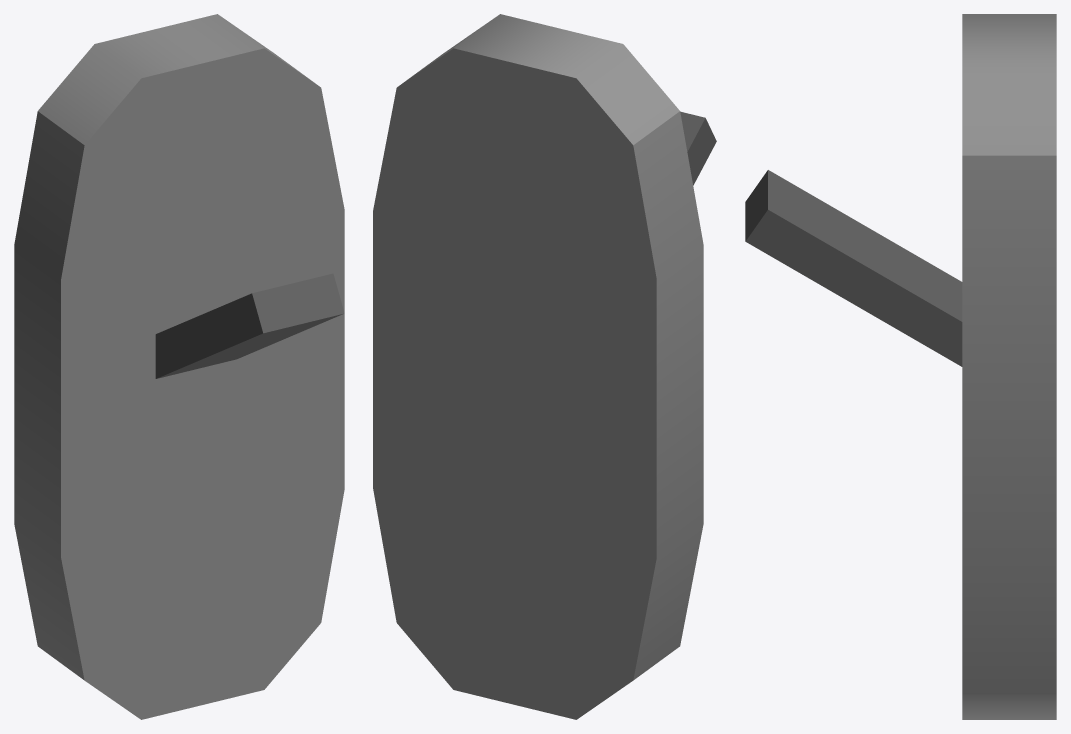
Rendered from Interruptor.fbx.
3 views of the same model, side by side, from view 1: azimuth 30°, elevation 25°; view 2: azimuth 150°, elevation 25°; view 3: azimuth 270°, elevation 25° (orthographic).
Parts seen in each view (by area): view 1: Interruptor; view 2: Interruptor; view 3: Interruptor.
Part boxes in pixels (left/top/right/bottom): Interruptor: left=14, top=14, right=344, bottom=719; Interruptor: left=373, top=14, right=716, bottom=719; Interruptor: left=745, top=14, right=1056, bottom=719.
Size of the model in its own units: 7.52 by 16.25 by 7.09.
